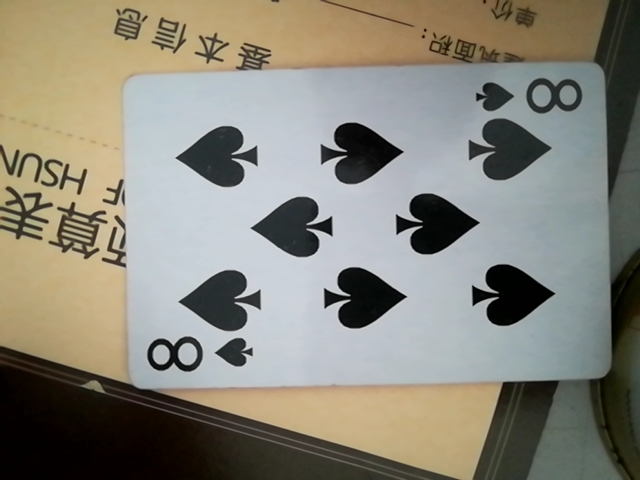ht 8: (110, 61, 614, 401)
